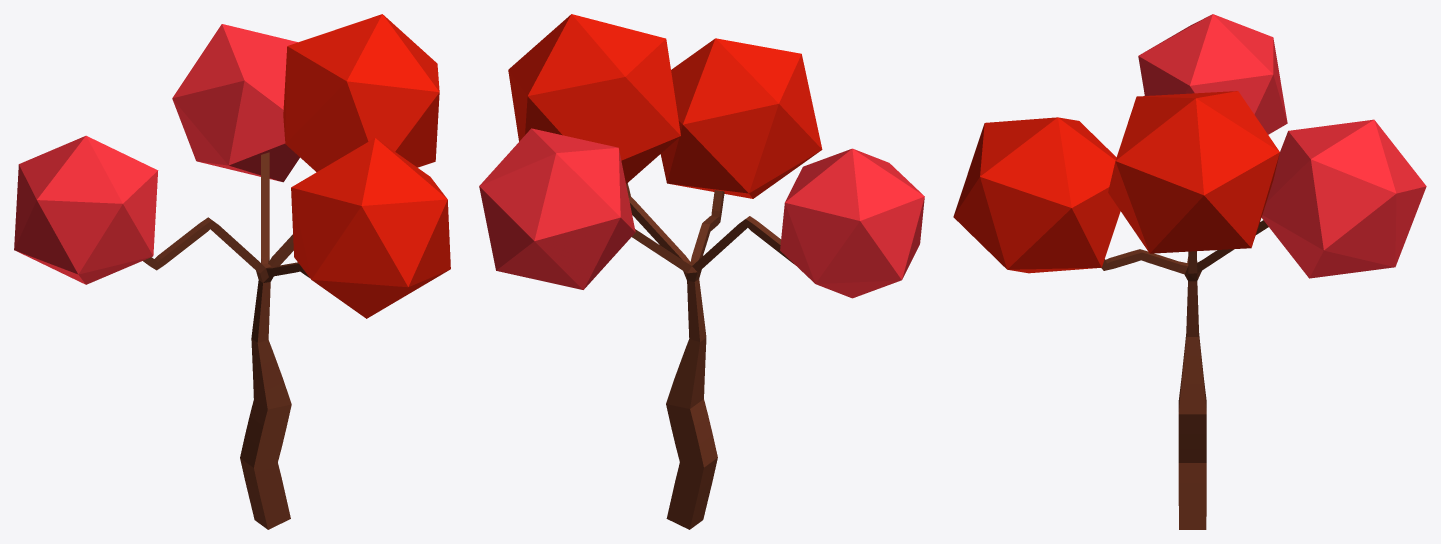
Rendered from Arbusto_On.fbx.
3 renders of one model, left to right at view 1: azimuth 30°, elevation 25°; view 2: azimuth 150°, elevation 25°; view 3: azimuth 270°, elevation 25°, orthographic.
Parts seen in each view (by area): view 1: Arbol_P; view 2: Arbol_P; view 3: Arbol_P.
Part boxes in pixels (box(x1,y1,x2,y2)): Arbol_P: box(14, 14, 450, 529); Arbol_P: box(479, 14, 924, 529); Arbol_P: box(953, 14, 1426, 529).
Size of the model in its own units: 868 by 977 by 861.
